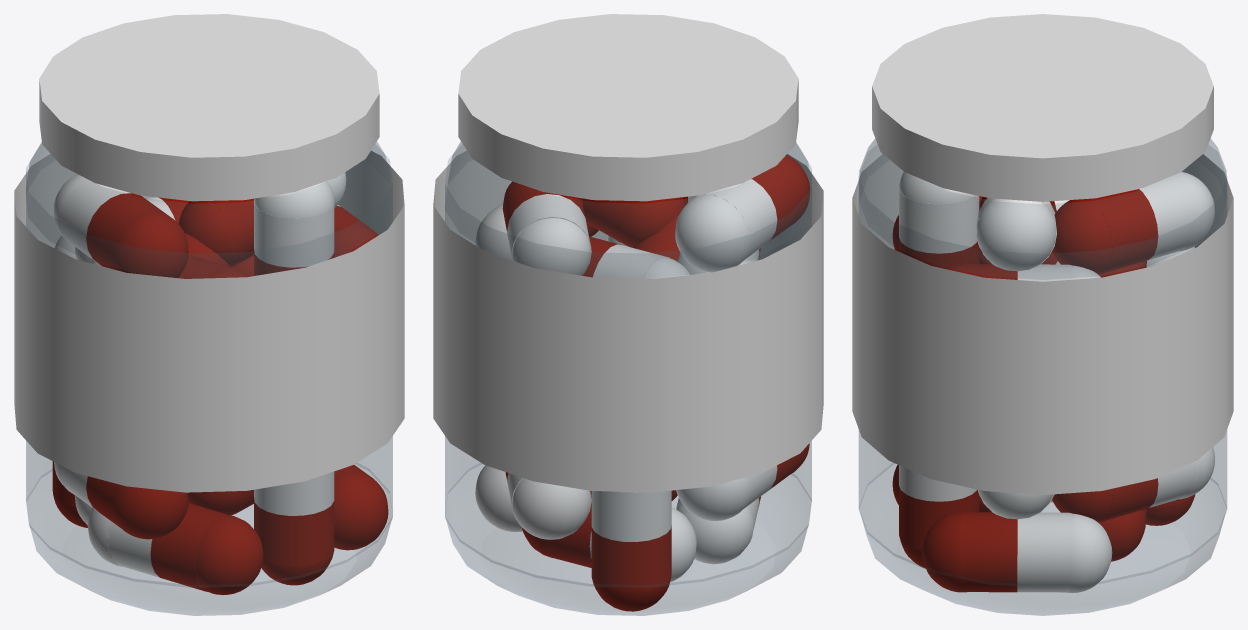
The model's file is pill.fbx.
3 renders of one model, left to right at view 1: azimuth 30°, elevation 25°; view 2: azimuth 150°, elevation 25°; view 3: azimuth 270°, elevation 25°, orthographic.
Visible parts, largest first — view 1: pCylinder14, pCylinder34, pCylinder2, pCylinder4, pCylinder3, pCylinder6, pCylinder29, pCylinder7, pCylinder27, pSphere8, pSphere49, pSphere2 (+13 smaller); view 2: pCylinder14, pCylinder34, pCylinder2, pCylinder4, pCylinder3, pCylinder13, pSphere48, pCylinder29, pSphere18, pSphere57, pCylinder33, pSphere7 (+13 smaller); view 3: pCylinder14, pCylinder34, pCylinder2, pCylinder4, pCylinder3, pCylinder1, pCylinder33, pCylinder27, pSphere42, pCylinder6, pSphere56, pSphere2 (+10 smaller).
Boxes of the visible parts, <box> form: pCylinder14: <box>14,151,404,492</box>; pCylinder34: <box>39,14,379,201</box>; pCylinder2: <box>26,156,392,587</box>; pCylinder4: <box>26,142,392,278</box>; pCylinder3: <box>26,463,392,615</box>; pCylinder6: <box>254,471,334,566</box>; pCylinder29: <box>59,178,168,269</box>; pCylinder7: <box>106,503,229,591</box>; pCylinder27: <box>254,200,334,275</box>; pSphere8: <box>196,515,263,594</box>; pSphere49: <box>113,212,188,277</box>; pSphere2: <box>334,471,388,550</box>; pCylinder14: <box>433,151,823,492</box>; pCylinder34: <box>458,14,798,201</box>; pCylinder2: <box>445,156,811,587</box>; pCylinder4: <box>445,142,811,278</box>; pCylinder3: <box>445,463,811,615</box>; pCylinder13: <box>591,490,671,592</box>; pSphere48: <box>675,194,750,272</box>; pCylinder29: <box>687,160,804,259</box>; pSphere18: <box>511,478,591,539</box>; pSphere57: <box>511,218,591,275</box>; pCylinder33: <box>502,182,591,263</box>; pSphere7: <box>677,502,753,564</box>; pCylinder14: <box>852,154,1233,494</box>; pCylinder34: <box>872,14,1213,201</box>; pCylinder2: <box>859,160,1226,587</box>; pCylinder4: <box>859,139,1226,279</box>; pCylinder3: <box>859,463,1226,615</box>; pCylinder1: <box>962,512,1071,592</box>; pCylinder33: <box>1090,173,1202,273</box>; pCylinder27: <box>899,188,979,268</box>; pSphere42: <box>976,198,1056,271</box>; pCylinder6: <box>899,465,979,549</box>; pSphere56: <box>1052,198,1112,274</box>; pSphere2: <box>922,512,968,592</box>.
Bounding box in the file's own units: 2.15 × 2.8 × 2.07.
